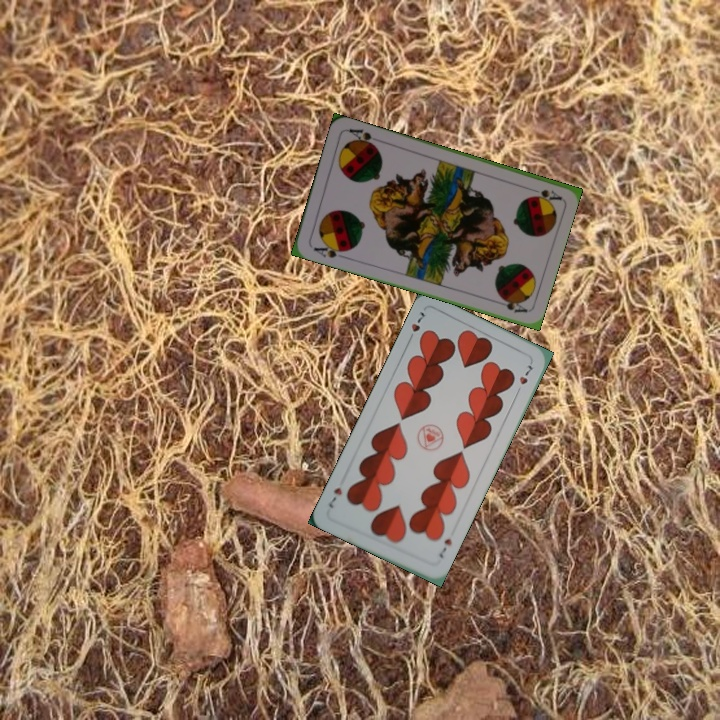H7: (404, 307, 427, 345), (435, 534, 454, 561)
SA: (310, 239, 350, 261), (530, 185, 563, 203)
